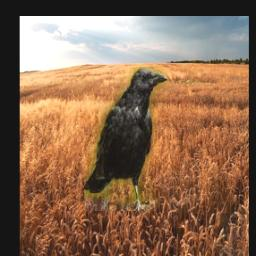Crow: (84, 68, 168, 212)
